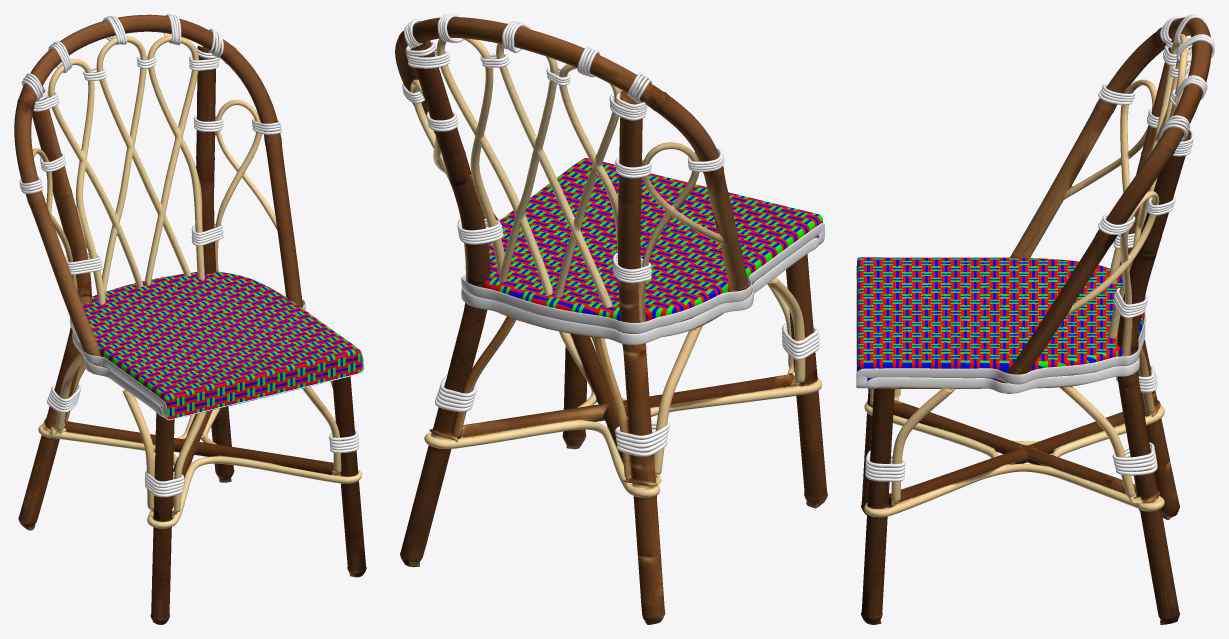
Rendered from resille-natte.glb.
The picture shows the model from 3 angles, left to right: view 1: azimuth 30°, elevation 25°; view 2: azimuth 150°, elevation 25°; view 3: azimuth 270°, elevation 25°; orthographic projection. The views are drawn at different scales.
Visible parts, largest first — view 1: mesh_structure, mesh_tressage, mesh_laniere; view 2: mesh_structure, mesh_tressage, mesh_laniere; view 3: mesh_structure, mesh_tressage, mesh_laniere.
Part boxes in pixels (x1,y1,x2,y2): mesh_structure: [14, 14, 366, 624]; mesh_tressage: [74, 271, 361, 419]; mesh_laniere: [19, 14, 363, 497]; mesh_structure: [395, 17, 827, 624]; mesh_tressage: [483, 158, 822, 331]; mesh_laniere: [402, 14, 824, 456]; mesh_structure: [861, 17, 1212, 624]; mesh_tressage: [857, 257, 1144, 381]; mesh_laniere: [856, 14, 1214, 481].
Size of the model in its own units: 0.5127 by 0.9055 by 0.5496.
3 materials, 2 textured.
